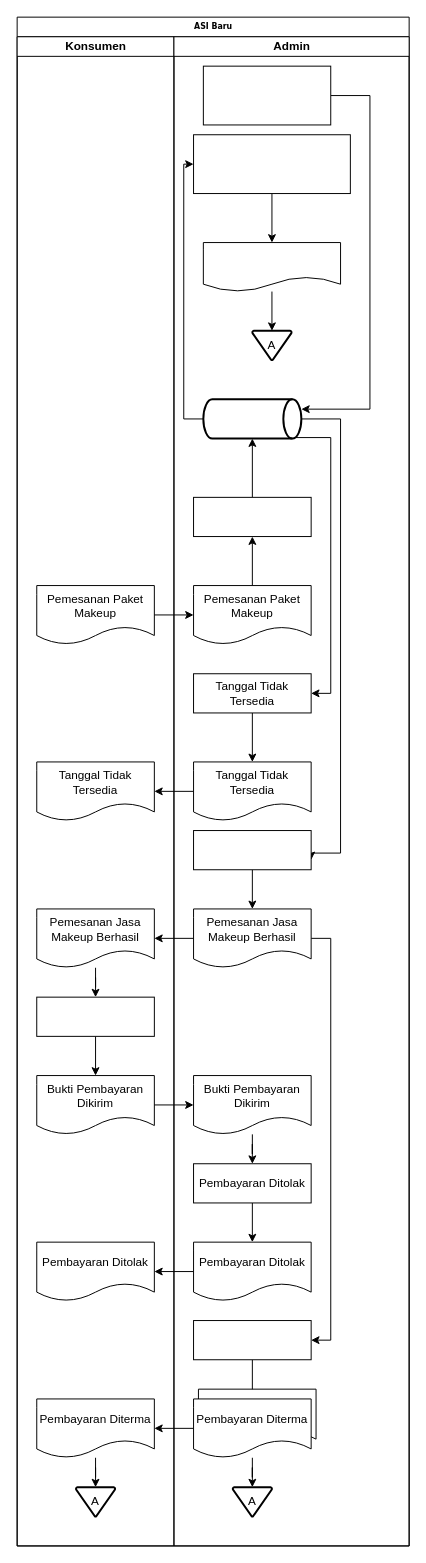
This 426x1563 diagram has some shape labels left out. The centre of each missing label's shape, as x and y in pixels:
"Data Pemesanan Jasa Makeup dengan Status Pembayaran Diterima" belongs at pixel 271 164.
"Database" belongs at pixel 252 418.
"Input Data Makeup, Paket Makeup, Tarif, Hasil Karya" belongs at pixel 266 95.
"Input Data Pemesanan" belongs at pixel 252 516.
"Lakukan Pembayaran" belongs at pixel 95 1016.
"Laporan Pemesanan Jasa Makeup" belongs at pixel 271 267.
"Pembayaran Diterima" belongs at pixel 252 1340.
"Tanggal Tersedia" belongs at pixel 252 850.
